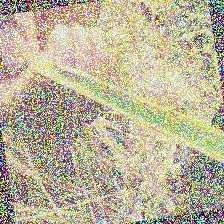Bacterial_Leaf_Blight: (127, 95, 154, 107), (102, 80, 116, 92), (169, 107, 180, 116)
